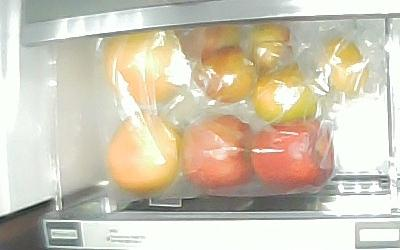apple_vinyl: (250, 119, 334, 191), (183, 112, 254, 188)
grapefruit_vinyl: (108, 112, 182, 194), (104, 30, 181, 105)
persimmon_vinyl: (253, 65, 318, 121), (321, 36, 369, 95)
prune_vinyl: (192, 46, 253, 104), (246, 21, 293, 71), (183, 24, 241, 58)
